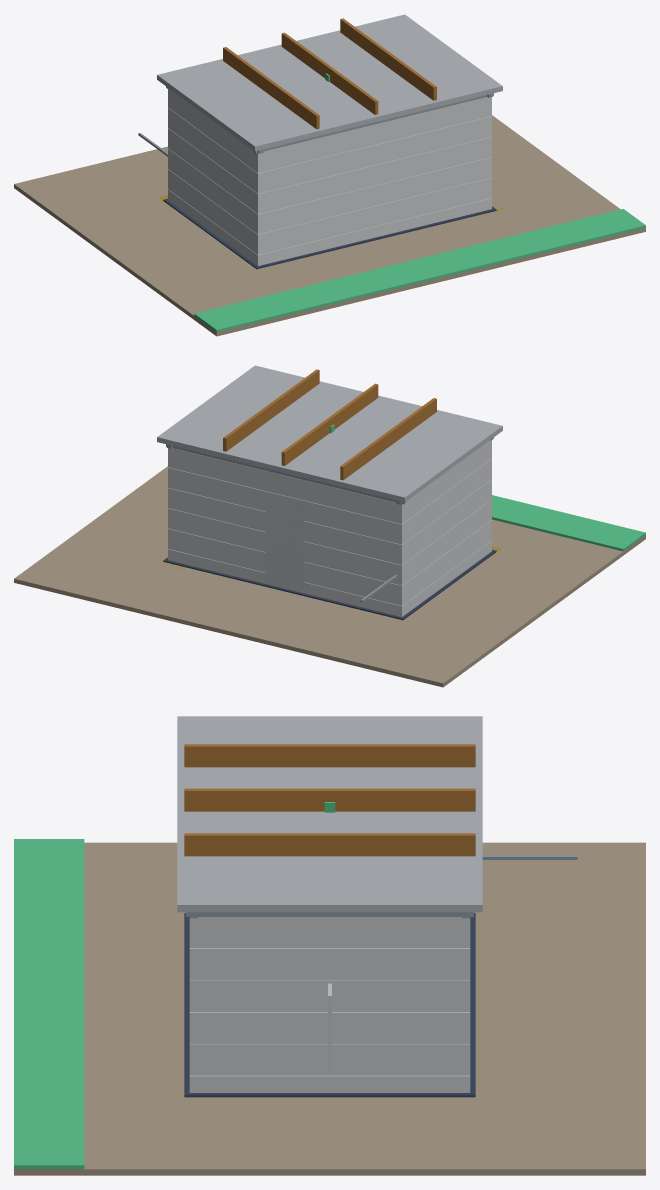
Rendered from stage_12_complete.glb.
The picture shows the model from 3 angles, top to bottom: view 1: azimuth 30°, elevation 25°; view 2: azimuth 150°, elevation 25°; view 3: azimuth 270°, elevation 25°; orthographic projection. The views are drawn at different scales.
Parts seen in each view (by area): view 1: world; view 2: world; view 3: world.
Part boxes in pixels (x1,y1,x2,y2): world: (14,14,645,336); world: (14,365,645,687); world: (14,716,645,1175).
Bounding box in the file's own units: 11 × 4.2 × 9.
